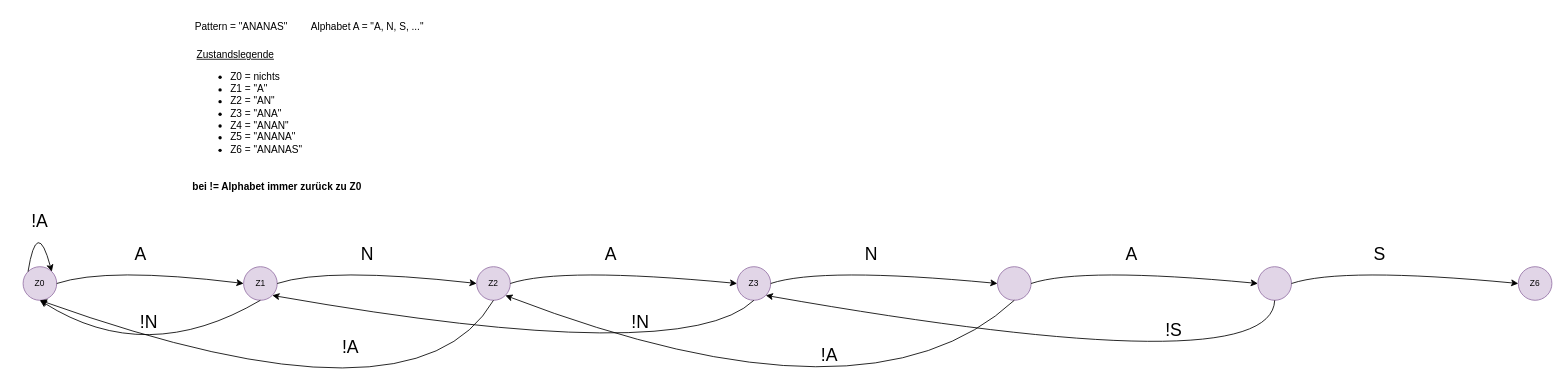
This 1567x383 diagram has some shape labels left out. Here are the shapes that lost their labels. From the top down, the centre of each, then its label:
At point 1014,283: "Z4".
At point 1274,283: "Z5".
